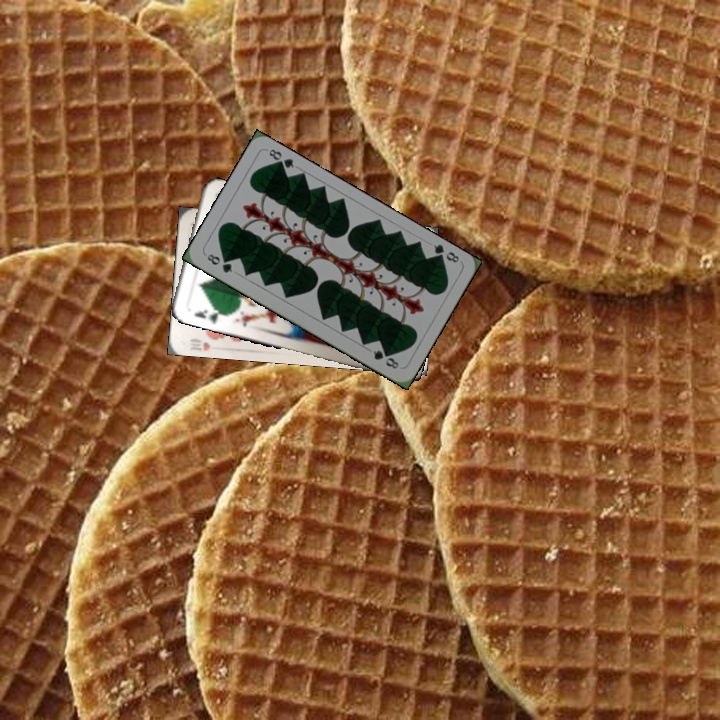G8: (429, 240, 462, 266), (203, 250, 235, 275)
GK: (191, 305, 225, 326)
H10: (186, 333, 212, 353)
